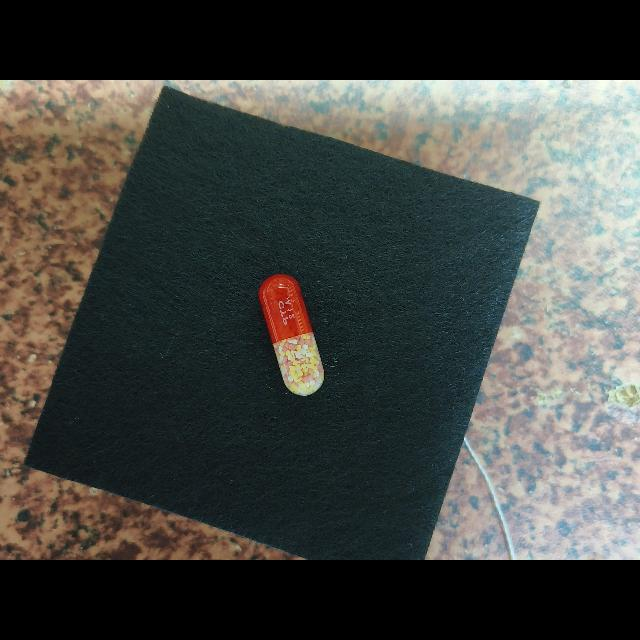Intact Capsule: (258, 274, 324, 396)
